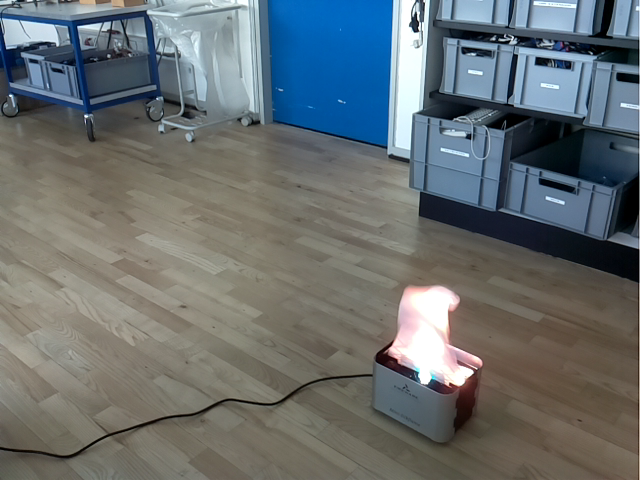fire: (388, 285, 464, 388)
